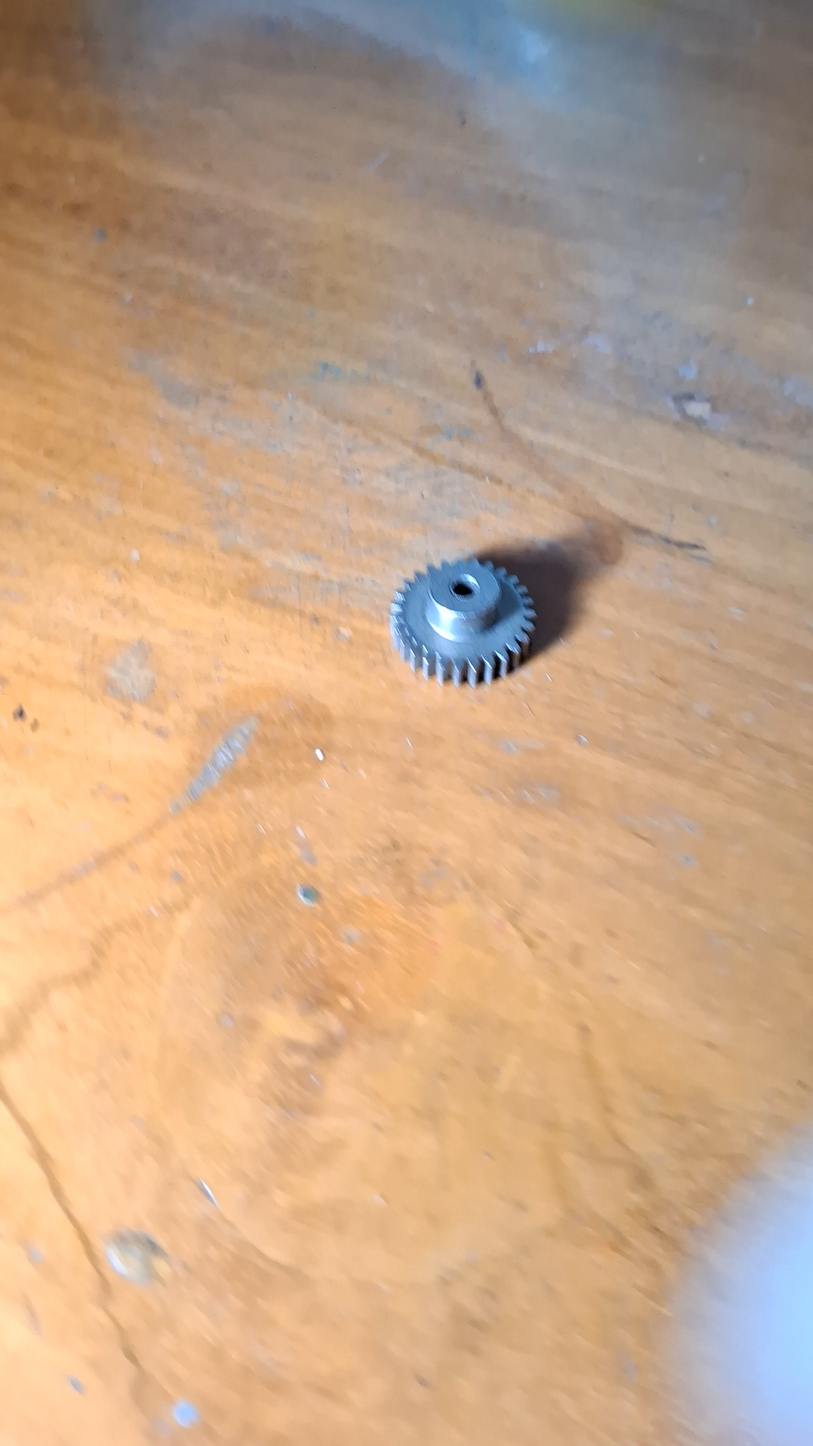spur gear: (391, 559, 536, 686)
